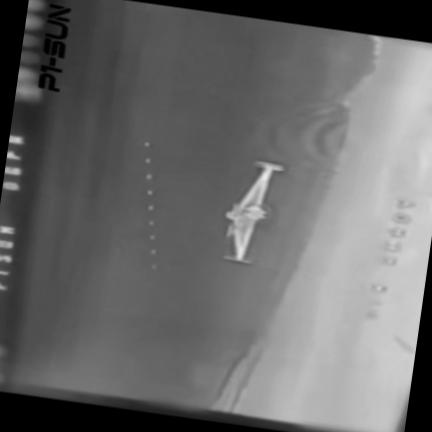Shahed: (225, 160, 284, 263)
